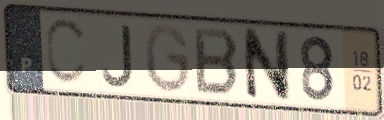8: (297, 33, 337, 105)
B: (192, 24, 242, 99)
C: (43, 16, 91, 88)
G: (142, 21, 193, 97)
J: (100, 23, 136, 89)
N: (239, 25, 293, 104)
